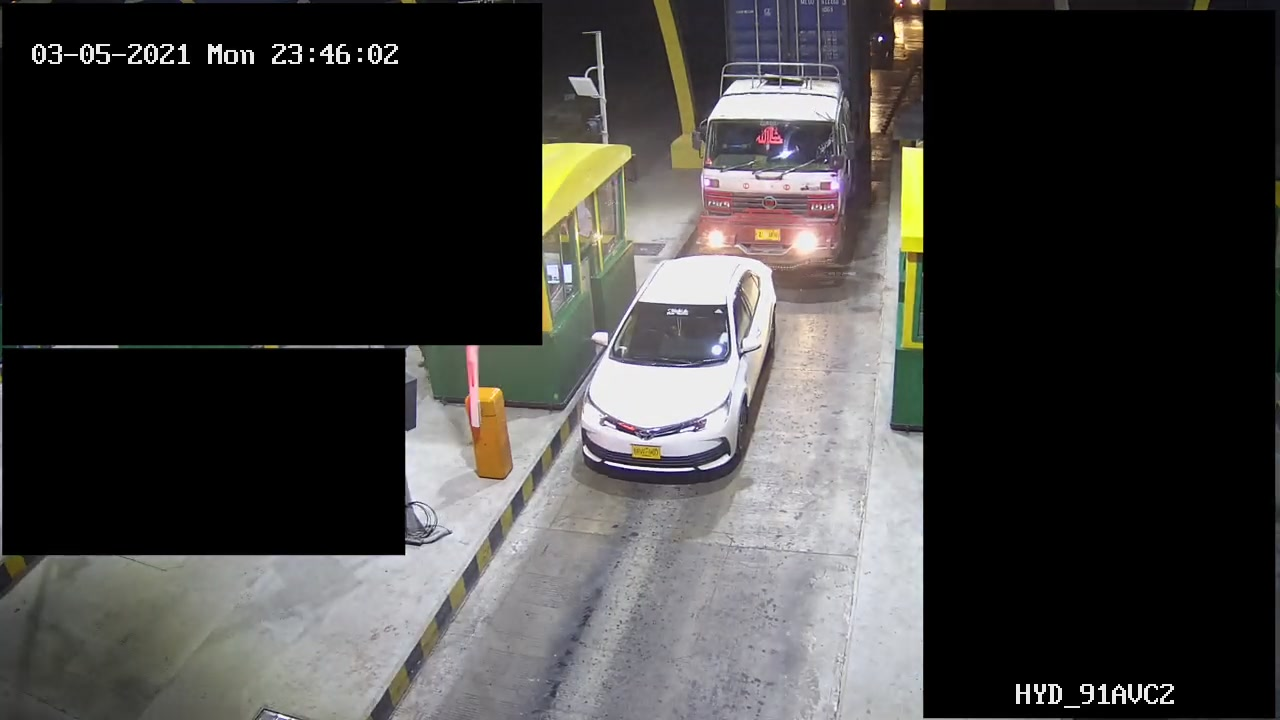F1: (571, 253, 788, 487)
